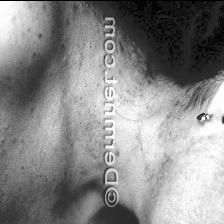Non-Cancerous Skin Condition: (121, 38, 144, 62)
